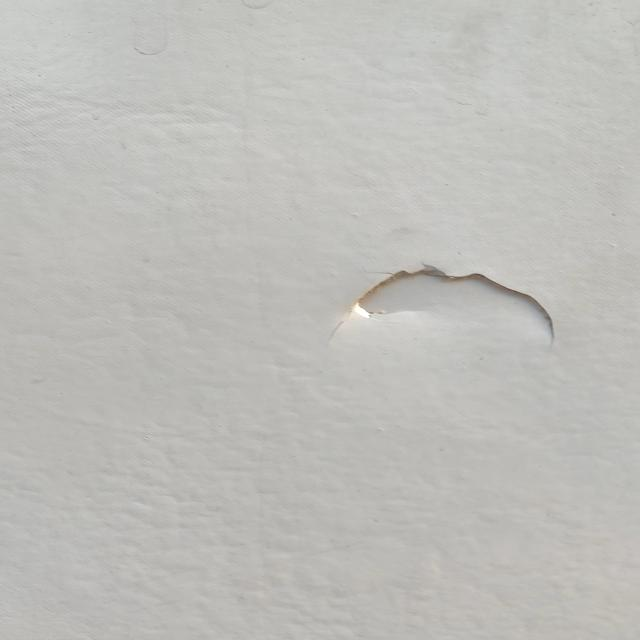Scratches: (307, 252, 572, 344)
